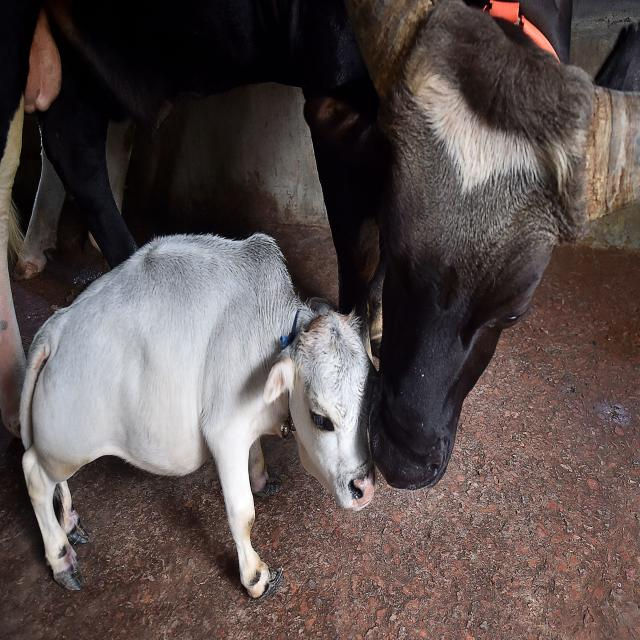cow: (333, 60, 572, 484)
